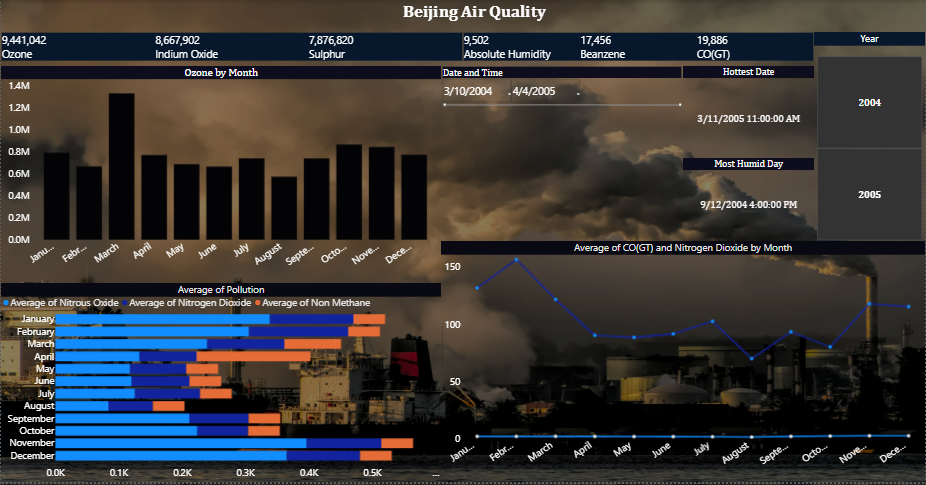

The dashboard page shown, as its layout file describes it:
{"tool":"powerbi","page":{"name":"Page 1","canvas":[7000,3650],"ordinal":0},"visuals":[{"type":"textbox","box":[0,0,6997.1,242.3],"z":0},{"type":"slicer","title":"Year","fields":{"Values":["AirQualityUCI.Year"]},"box":[6156.5,242.3,840.6,1582.7],"z":1000},{"type":"multiRowCard","fields":{"Values":["Sum(AirQualityUCI.Ozone)","Sum(AirQualityUCI.Indium Oxide)","Sum(AirQualityUCI.Sulphur)"]},"box":[0,242.3,3498.5,257.5],"z":2000},{"type":"multiRowCard","fields":{"Values":["Sum(AirQualityUCI.Absolute Humidity)","Sum(AirQualityUCI.Beanzene)","Sum(AirQualityUCI.CO(GT))"]},"box":[3498.5,242.3,2658,257.5],"z":3000},{"type":"clusteredColumnChart","title":"Ozone by Month","fields":{"Category":["AirQualityUCI.Date and Time.Variation.Date Hierarchy.Month"],"Y":["Sum(AirQualityUCI.Ozone)"]},"box":[0,499.8,3332,1643.3],"z":4000},{"type":"slicer","fields":{"Values":["AirQualityUCI.Date and Time"]},"box":[3332,499.8,1832.6,1325.2],"z":5000},{"type":"card","title":"Hottest Date","fields":{"Values":["AirQualityUCI.Hottest Date"]},"box":[5164.5,499.8,992,696.7],"z":6000},{"type":"card","title":"Most Humid Day","fields":{"Values":["AirQualityUCI.Most Humid Day"]},"box":[5164.5,1196.5,992,628.5],"z":7000},{"type":"barChart","title":"Average of Pollution","fields":{"Category":["AirQualityUCI.Date and Time.Variation.Date Hierarchy.Month"],"Y":["Avg(AirQualityUCI.Nitrous Oxide)","Avg(AirQualityUCI.Nitrogen Dioxide)","Avg(AirQualityUCI.Non Methane)"]},"box":[0,2143,3332,1507],"z":8000},{"type":"lineChart","title":"Average of CO(GT) and Nitrogen Dioxide by Month","fields":{"Category":["AirQualityUCI.Date and Time.Variation.Date Hierarchy.Month","AirQualityUCI.Date and Time.Variation.Date Hierarchy.Day"],"Y":["Avg(AirQualityUCI.CO(GT))","Avg(AirQualityUCI.Nitrogen Dioxide)"]},"box":[3332,1825,3665.1,1825],"z":9000}]}

Visuals, with their boxes in screenshot pixels (x1, y1, x2, y2), scaled from the page's 7000x3650 canvas onto the 926x485 screenshot:
textbox: [left=0, top=0, right=925, bottom=32]
"Year" slicer: [left=814, top=32, right=925, bottom=243]
multiRowCard - Sum(AirQualityUCI.Ozone) x Sum(AirQualityUCI.Indium Oxide): [left=0, top=32, right=463, bottom=66]
multiRowCard - Sum(AirQualityUCI.Absolute Humidity) x Sum(AirQualityUCI.Beanzene): [left=463, top=32, right=814, bottom=66]
"Ozone by Month" clusteredColumnChart: [left=0, top=66, right=441, bottom=285]
slicer - AirQualityUCI.Date and Time: [left=441, top=66, right=683, bottom=243]
"Hottest Date" card: [left=683, top=66, right=814, bottom=159]
"Most Humid Day" card: [left=683, top=159, right=814, bottom=243]
"Average of Pollution" barChart: [left=0, top=285, right=441, bottom=484]
"Average of CO(GT) and Nitrogen Dioxide by Month" lineChart: [left=441, top=243, right=925, bottom=484]
